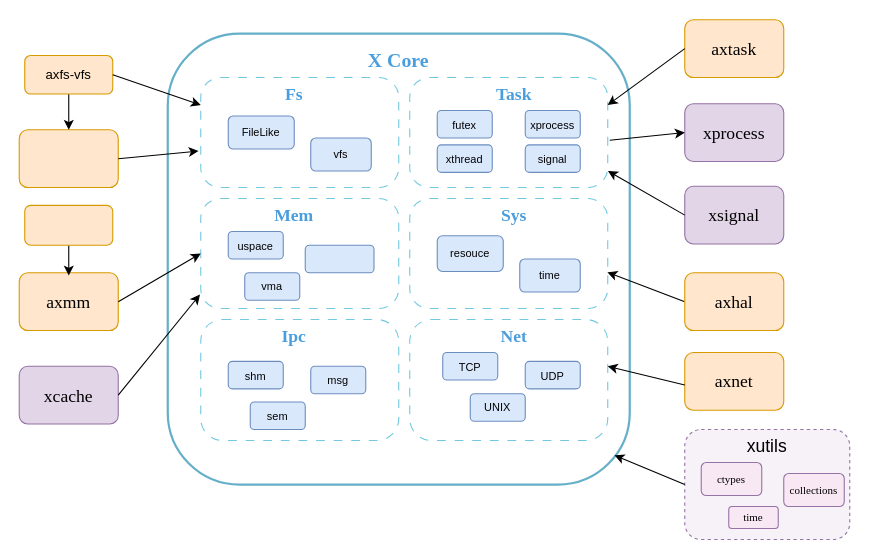
Some shapes in this 869 by 559 pixel diagram are drawn without their labels. Each missing label, with the centre of its shape:
axalloc: pixel 68 224
axfs: pixel 68 158
page_cache: pixel 339 258
